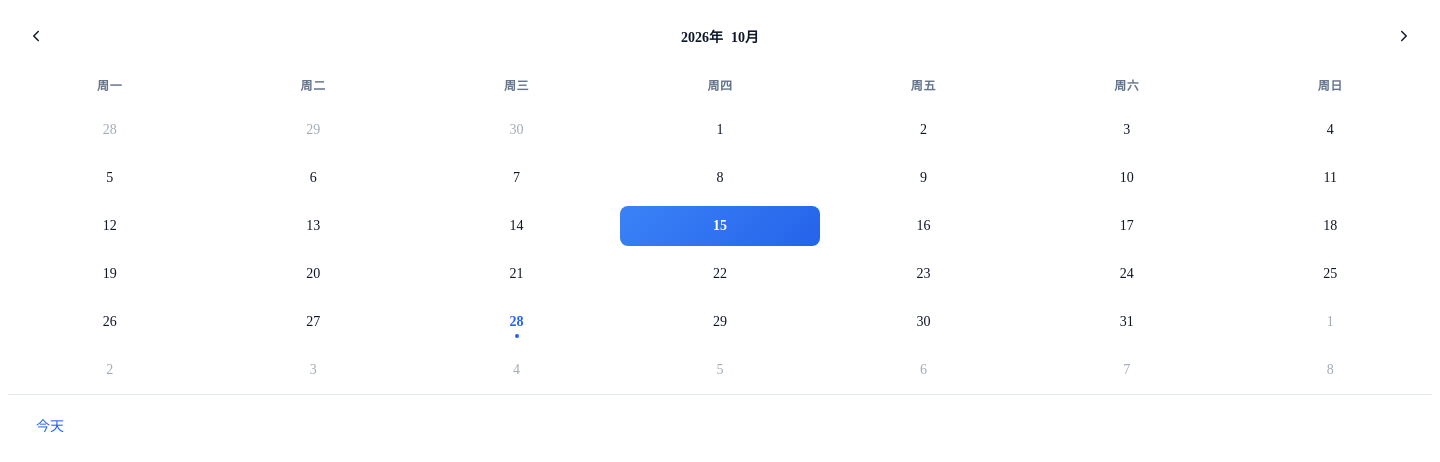
Scenario: Calendar › pages through contiguous year groups and returns without changing the visible month
Click the button "2026年".
click(702, 36)  # box [677, 16, 727, 56]
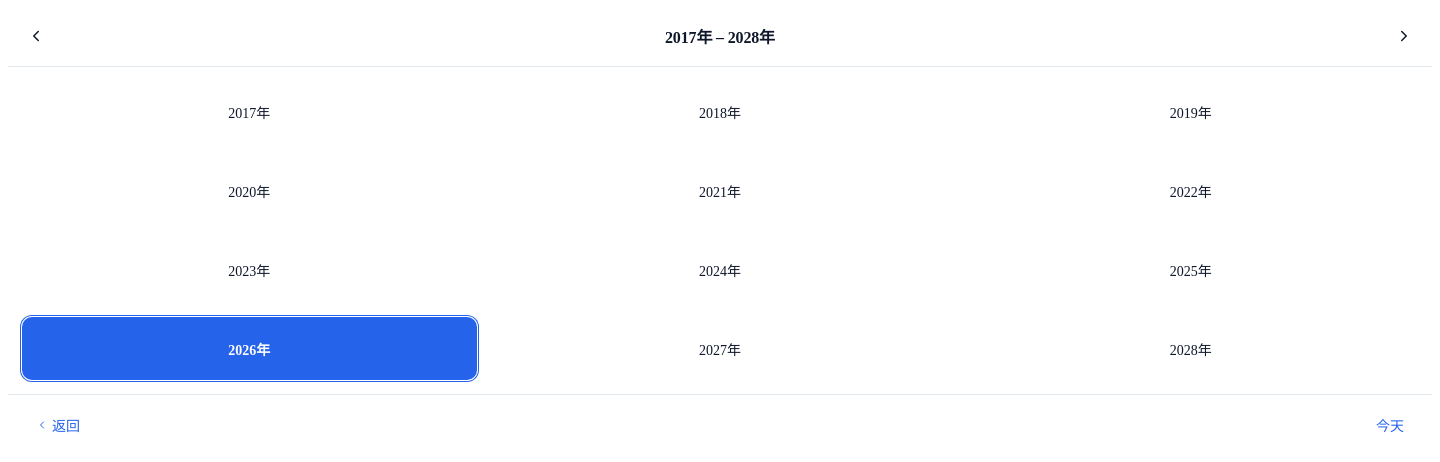
Click the 2nd button with class "scq-calendar__nav".
click(1404, 36)  # box [1382, 16, 1426, 56]
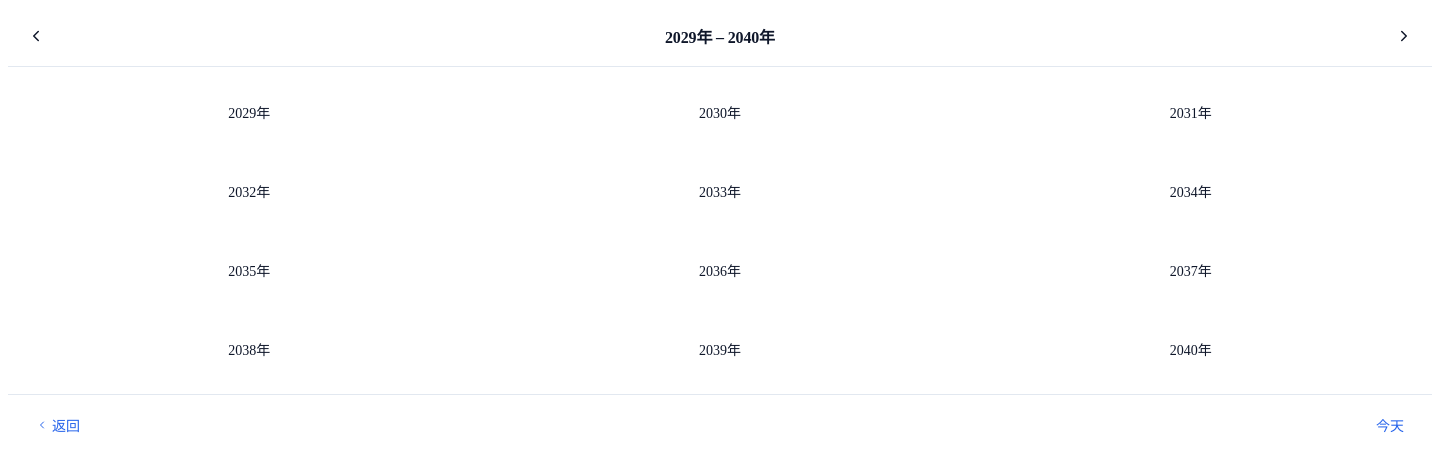
Click the 1st button with class "scq-calendar__nav".
click(36, 36)  # box [14, 16, 58, 56]
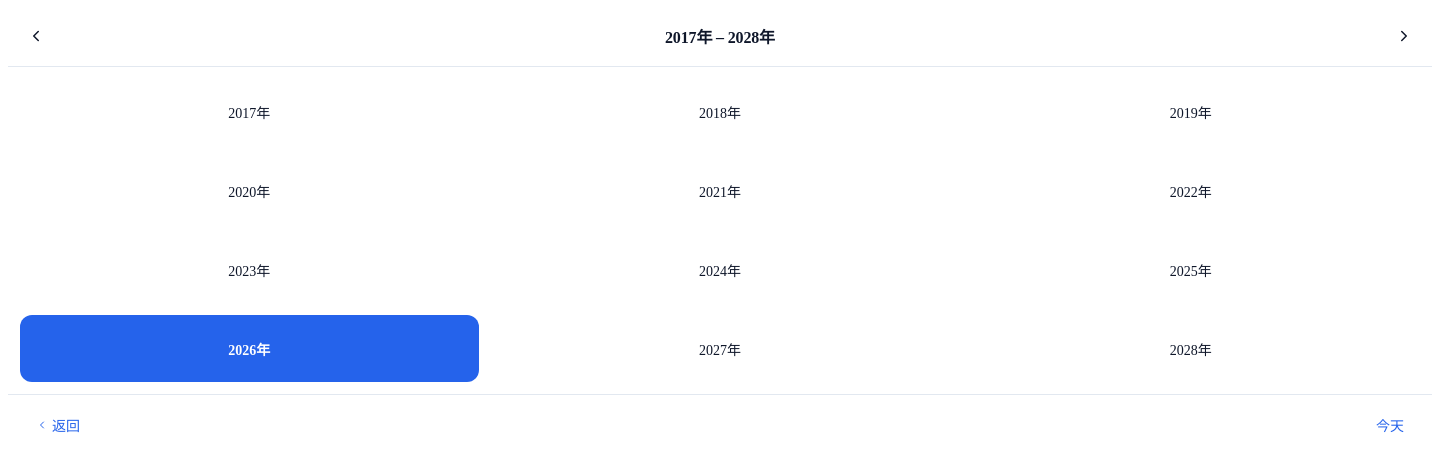
Click the button "返回".
click(58, 425)  # box [22, 405, 94, 445]
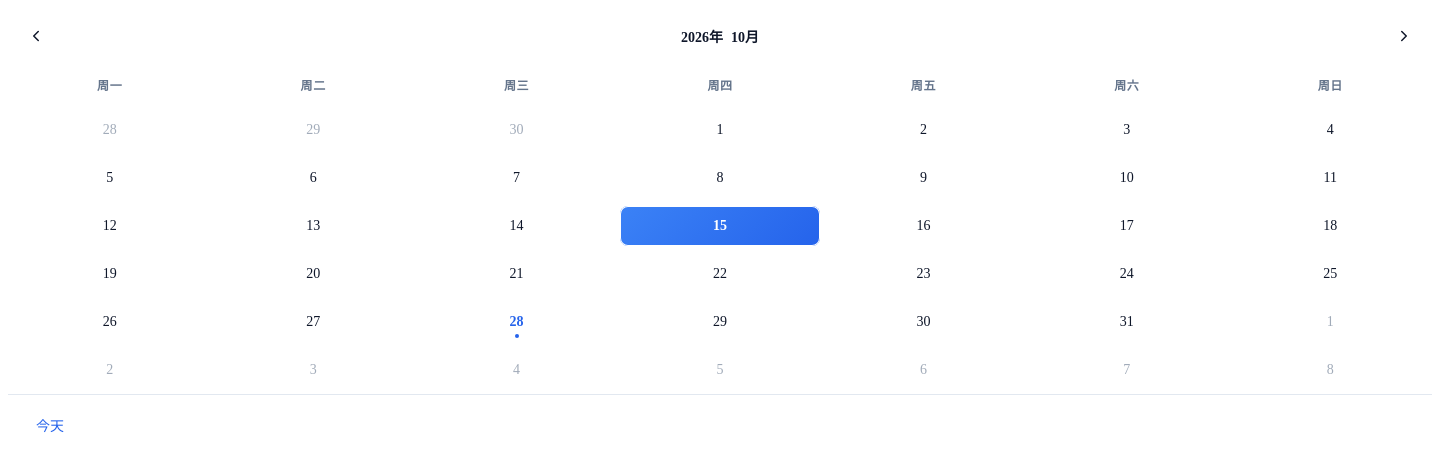
Now the button "15" is shown, box [620, 206, 820, 246]
